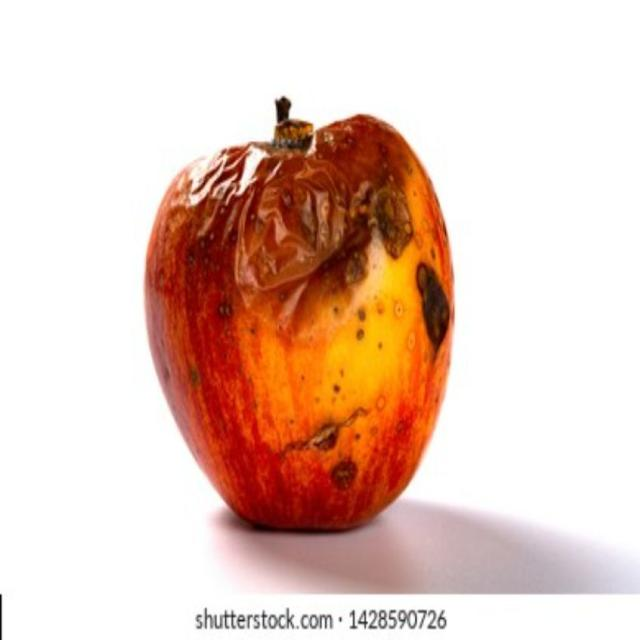Rotten Apple: (127, 105, 477, 551)
